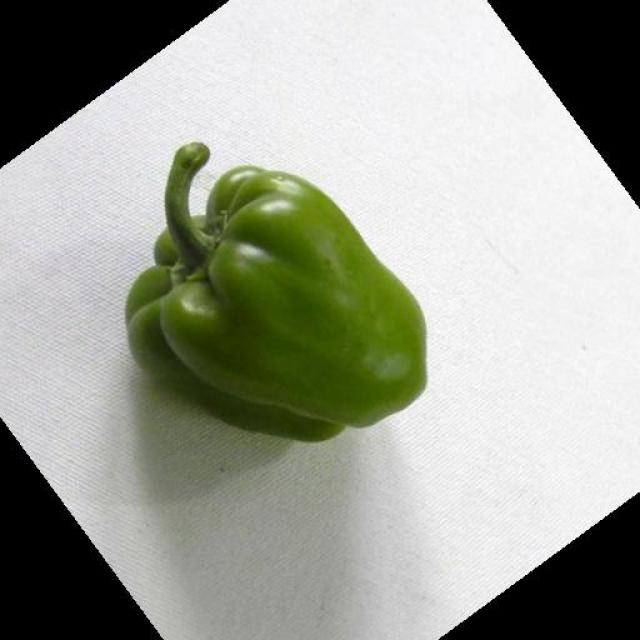Fresh_Capsicum: (100, 131, 472, 474)
